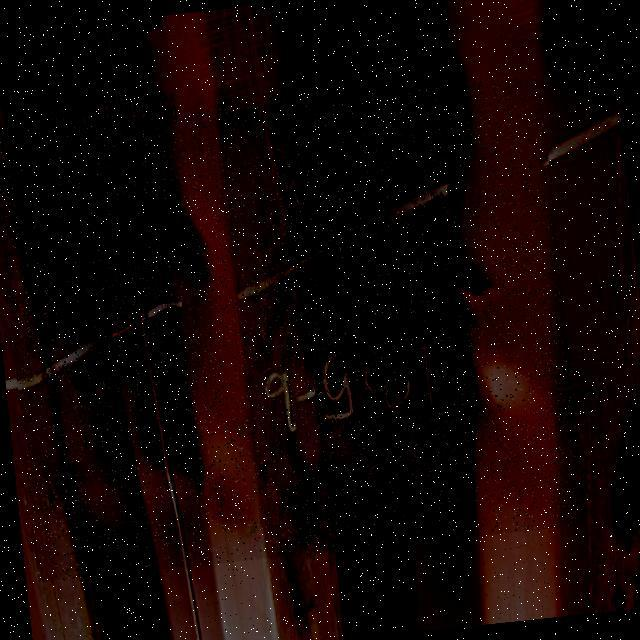Dent: (0, 74, 586, 581)
